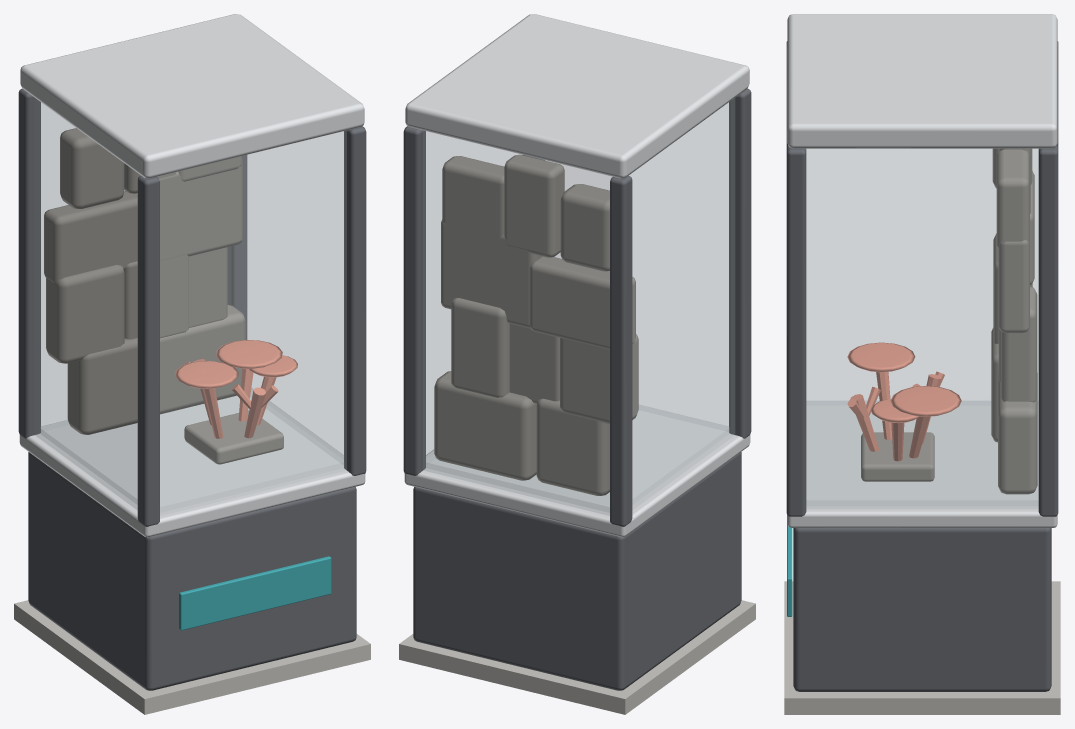
File: public-aquarium-and-marine-centre-corner-tank-module-84d95df2__34144.glb
The picture shows the model from 3 angles, left to right: view 1: azimuth 30°, elevation 25°; view 2: azimuth 150°, elevation 25°; view 3: azimuth 270°, elevation 25°; orthographic projection. The views are drawn at different scales.
Visible parts, largest first — view 1: corner-tank-module; view 2: corner-tank-module; view 3: corner-tank-module.
Part boxes in pixels (box(x1,y1,x2,y2)): corner-tank-module: box(14, 14, 370, 714); corner-tank-module: box(399, 14, 755, 714); corner-tank-module: box(784, 14, 1060, 714).
Size of the model in its own units: 0.9 by 2.11 by 0.9.
